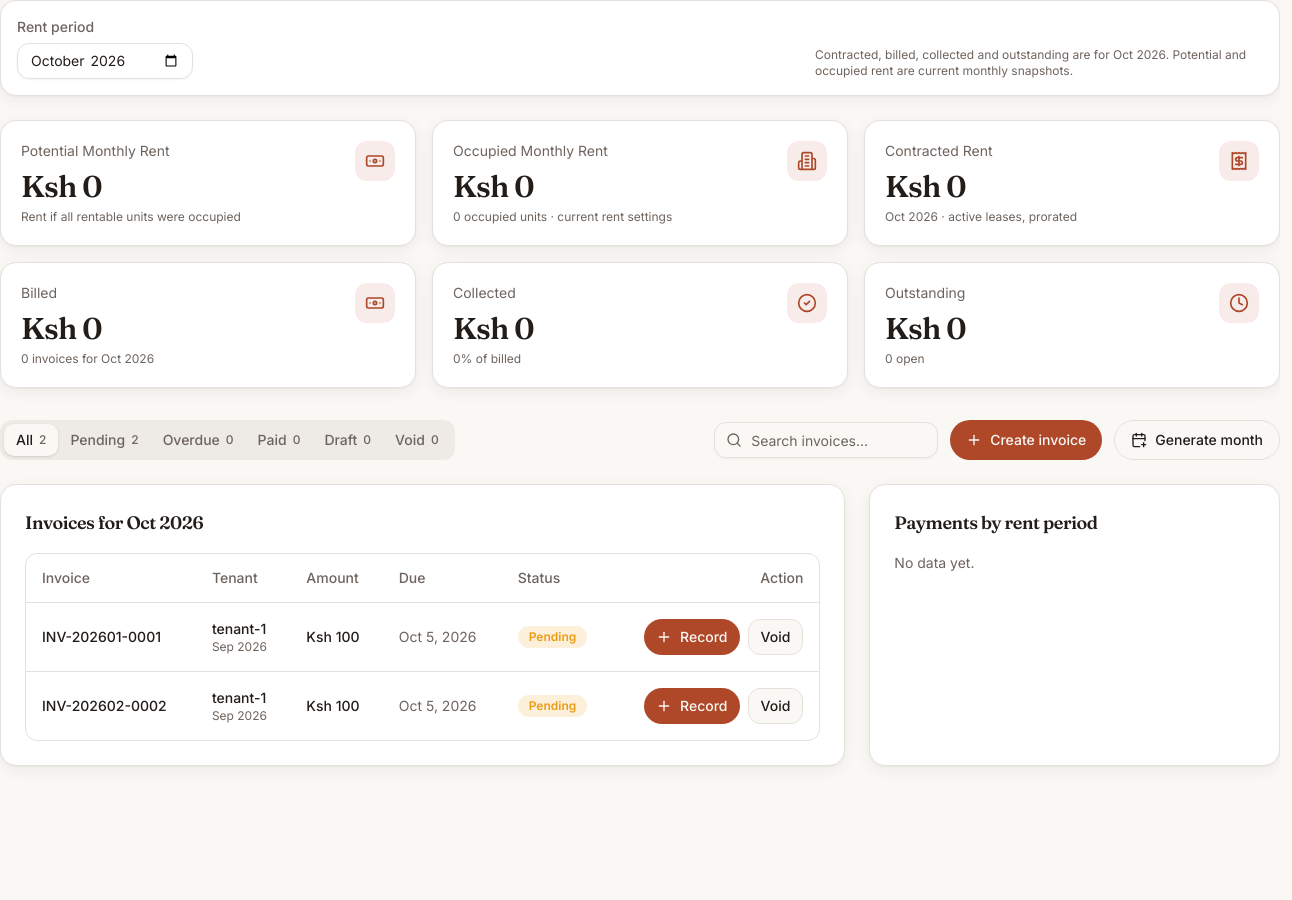
InvoicesManager › filters invoices by the search box
Type "202602" into the field with placeholder "Search invoices…" at (826, 440), box [714, 422, 938, 458]
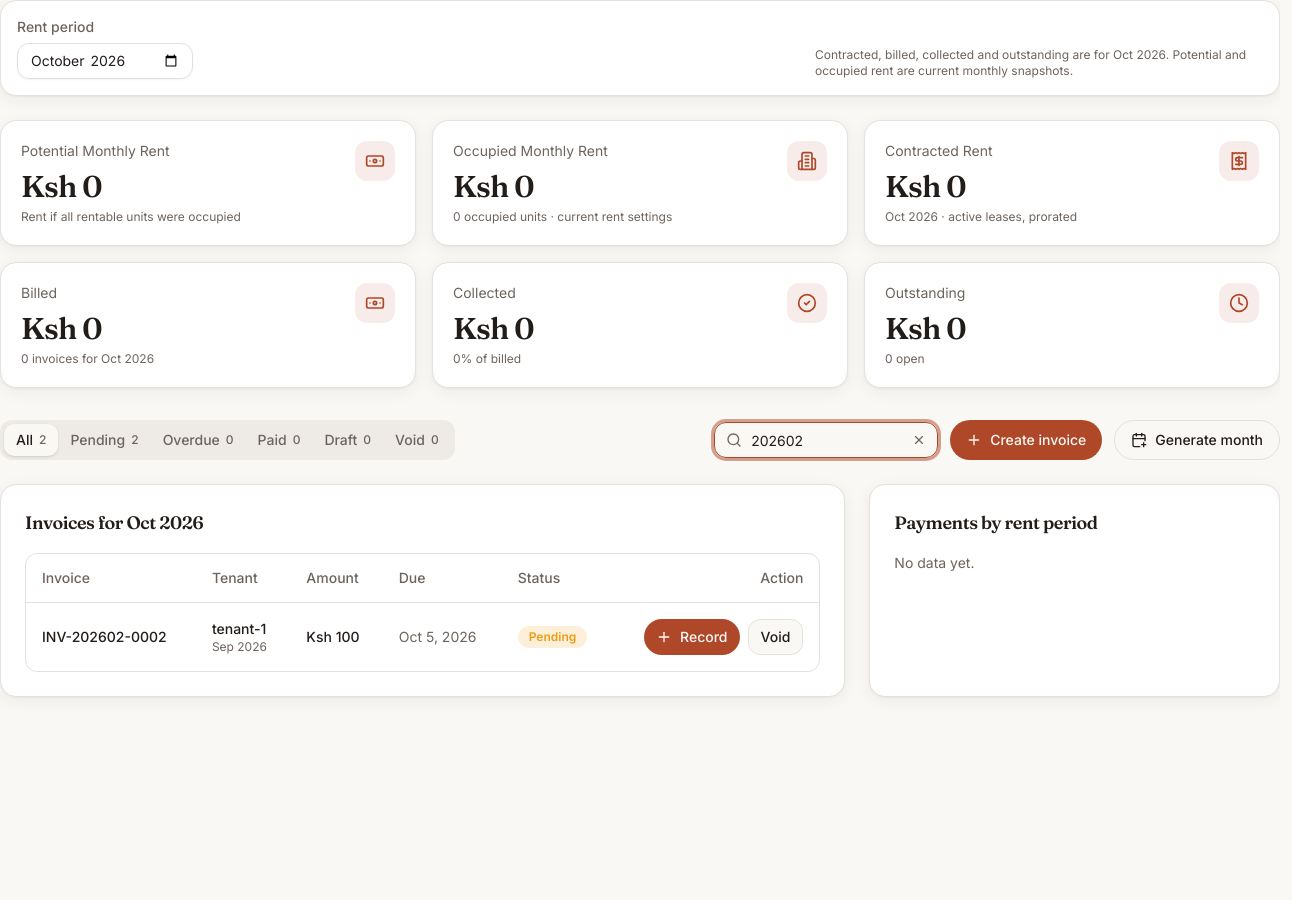
expect the text "INV-202602-0002" is shown: met, box [26, 602, 196, 670]
expect the text "INV-202601-0001" is gone: met
